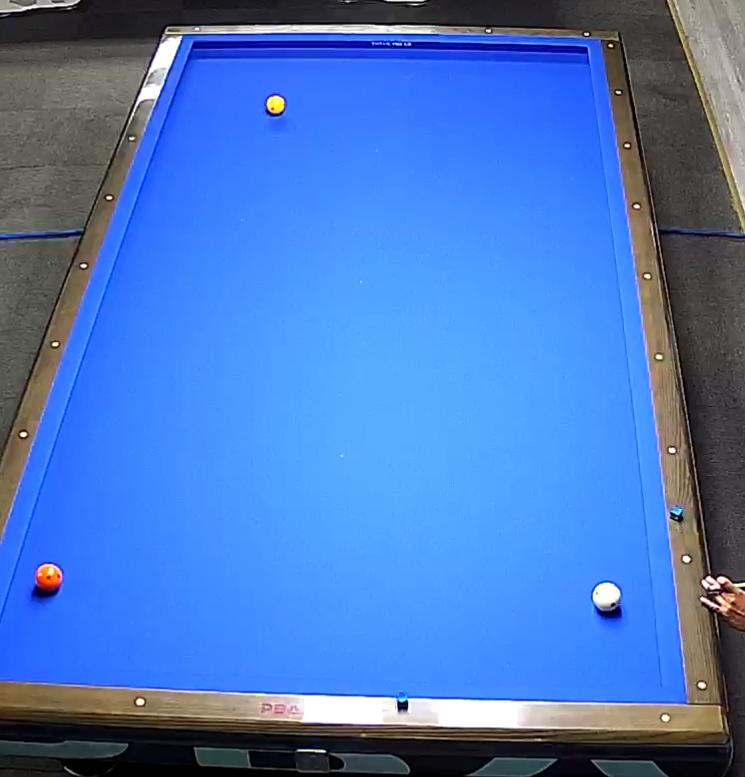orange ball: (31, 558, 66, 596)
white ball: (589, 580, 625, 615)
yellow ball: (261, 90, 289, 120)
